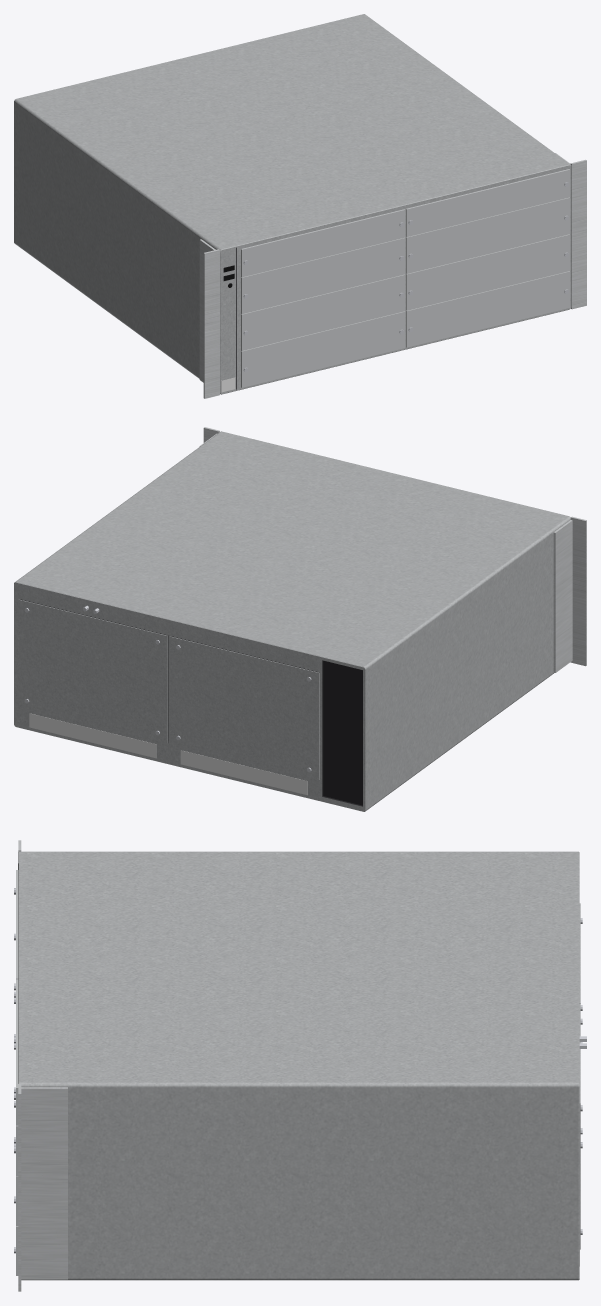
File: J9850A.far.glb
The picture shows the model from 3 angles, top to bottom: view 1: azimuth 30°, elevation 25°; view 2: azimuth 150°, elevation 25°; view 3: azimuth 270°, elevation 25°; orthographic projection. The views are drawn at different scales.
Parts seen in each view (by area): view 1: Shell_far, empty:E, empty:F, empty:D, empty:C, empty:A, empty:B, empty:MM1, empty:MM2; view 2: Shell_far, empty:PS2, empty:PS1, empty:Fan1; view 3: Shell_far.
Boxes of the visible parts, x1,y1,x2,y2 form: Shell_far: (14, 14, 586, 398); empty:E: (241, 311, 405, 387); empty:F: (406, 271, 570, 347); empty:D: (406, 234, 570, 310); empty:C: (241, 274, 405, 350); empty:A: (241, 237, 405, 313); empty:B: (406, 197, 570, 273); empty:MM1: (241, 209, 405, 277); empty:MM2: (406, 169, 570, 236); Shell_far: (14, 427, 586, 811); empty:PS2: (169, 636, 319, 780); empty:PS1: (18, 599, 167, 743); empty:Fan1: (323, 660, 362, 805); Shell_far: (18, 840, 586, 1291).
Size of the model in its own units: 0.4826 by 0.1752 by 0.4604.
4 materials, 3 textured.
